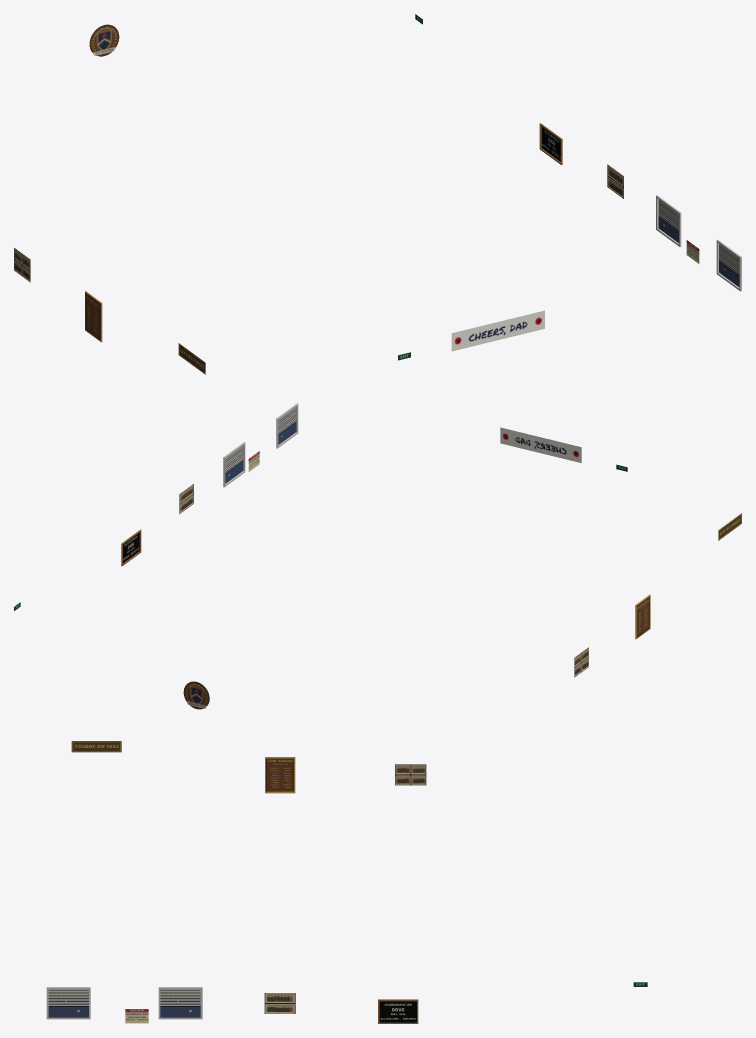
The model's file is WallArt.obj.
3 renders of one model, top to bottom at view 1: azimuth 30°, elevation 25°; view 2: azimuth 150°, elevation 25°; view 3: azimuth 270°, elevation 25°, orthographic. The views are drawn at different scales.
Parts seen in each view (by area): view 1: WallArt; view 2: WallArt; view 3: WallArt.
Boxes of the visible parts, box(x1,y1,x2,y2) form: WallArt: box(14, 14, 741, 374); WallArt: box(14, 403, 741, 709); WallArt: box(46, 741, 647, 1023).
Size of the model in its own units: 17.94 by 2.13 by 23.42.
Materials: 10 (10 with a texture image).
